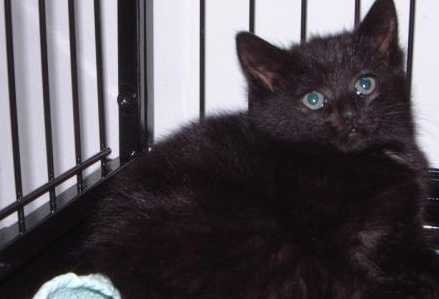Cat: (78, 0, 438, 298)
